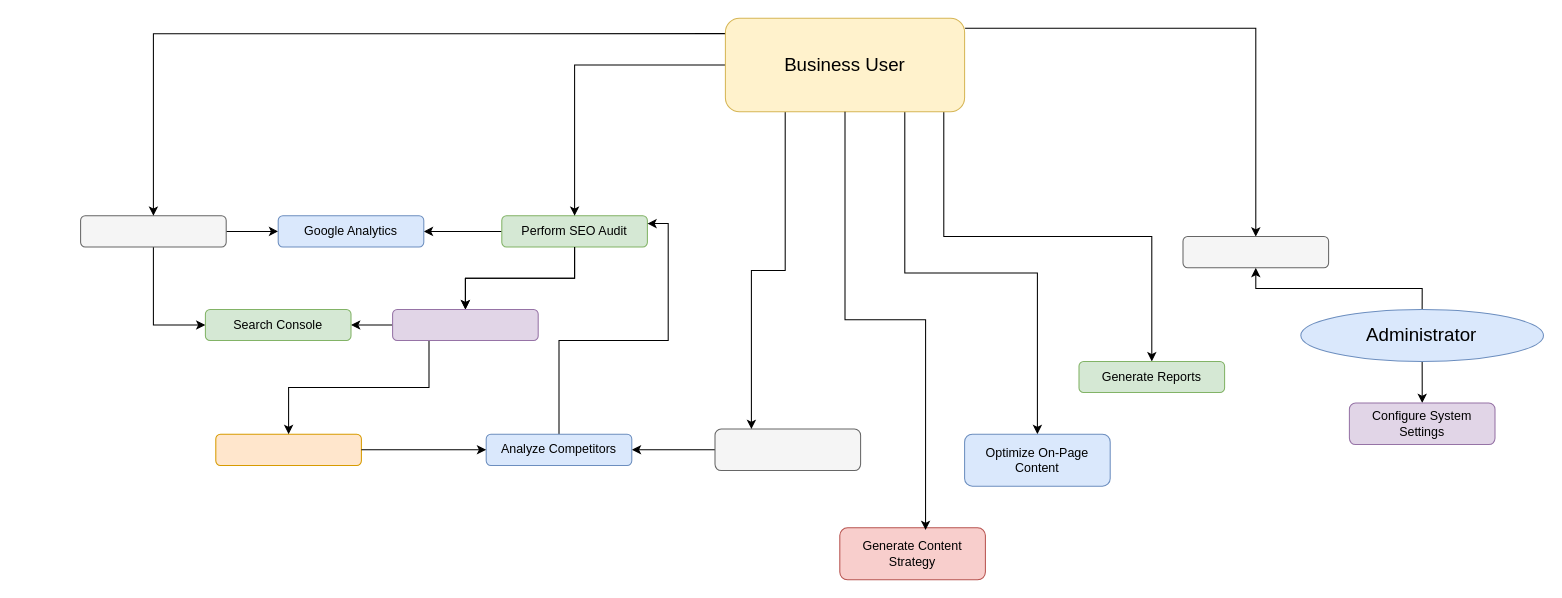
This 1562x598 diagram has some shape labels left out. The shapes that lost their labels are listed below. From the top down, each one's centre as x and y in pixels, then its label:
point (153, 231): Track SEO Performance
point (1255, 252): Manage User Account
point (465, 324): Analyze Backlinks
point (288, 449): 3rd Party SEO APIs
point (787, 449): Conduct Keyword Research
